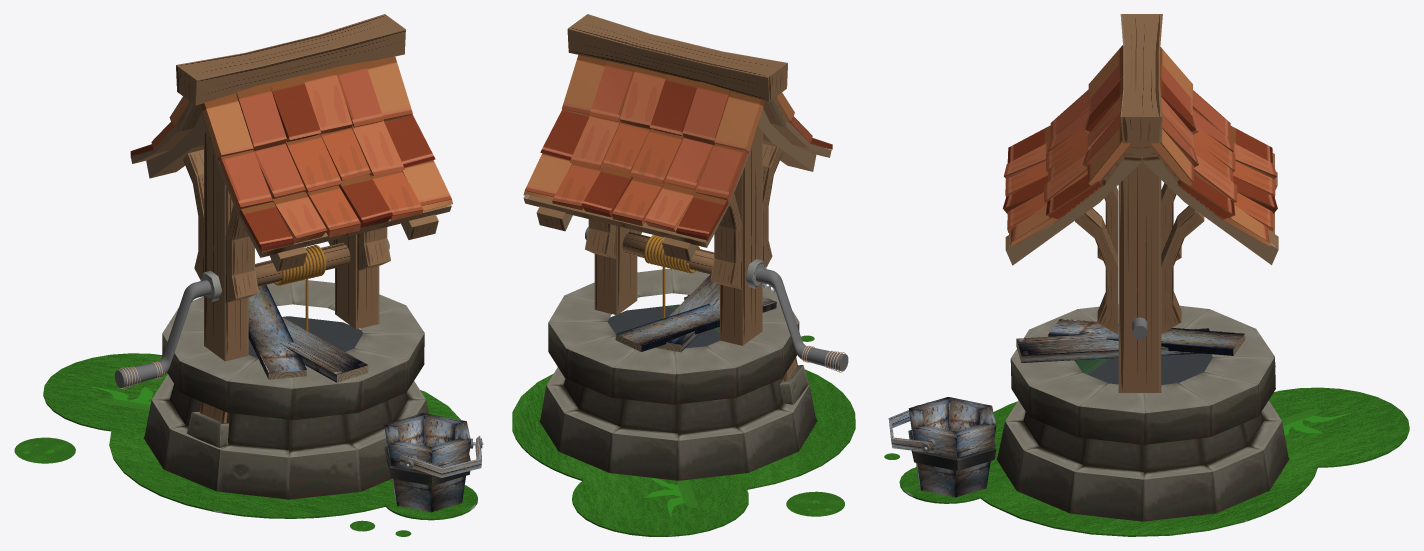
Rendered from well.glb.
The picture shows the model from 3 angles, left to right: view 1: azimuth 30°, elevation 25°; view 2: azimuth 150°, elevation 25°; view 3: azimuth 270°, elevation 25°; orthographic projection. The views are drawn at different scales.
Visible parts, largest first — view 1: Cylinder001, Cylinder012, Circle001, Box019, Torus001, Box002, Cylinder004, Box022, Box035, Box003, Box010 (×3), Box015 (×2) (+24 smaller); view 2: Cylinder001, Cylinder012, Circle001, Box019, Box002, Cylinder004, Box041, Box015 (×2), Box003, Box022, Box010 (×3), Box007 (+22 smaller); view 3: Cylinder001, Cylinder012, Circle001, Box003, Torus001, Box019, Box010 (×2), Box022, Box021, Box009, Box008, Box015 (×2) (+25 smaller).
Boxes of the visible parts, box(x1,y1,x2,y2) form: Cylinder001: box(143, 316, 428, 499); Cylinder012: box(162, 280, 424, 419); Circle001: box(43, 353, 477, 520); Box019: box(176, 14, 405, 105); Torus001: box(384, 413, 470, 512); Box002: box(204, 131, 248, 361); Cylinder004: box(114, 239, 389, 387); Box022: box(248, 285, 306, 379); Box035: box(306, 170, 422, 237); Box003: box(335, 234, 379, 329); Box010 (×3): box(146, 113, 438, 271); Box015 (×2): box(130, 101, 451, 257); Cylinder001: box(539, 304, 817, 480); Cylinder012: box(548, 268, 799, 404); Circle001: box(512, 369, 855, 536); Box019: box(567, 14, 787, 101); Box002: box(720, 126, 762, 345); Cylinder004: box(585, 227, 848, 371); Box041: box(552, 163, 663, 226); Box015 (×2): box(523, 97, 831, 247); Box003: box(594, 226, 637, 315); Box022: box(615, 296, 776, 351); Box010 (×3): box(536, 109, 816, 261); Box007: box(710, 193, 742, 289); Cylinder001: box(996, 353, 1289, 521); Cylinder012: box(1010, 304, 1275, 444); Circle001: box(899, 387, 1409, 536); Box003: box(1118, 157, 1161, 392); Torus001: box(908, 397, 996, 497); Box019: box(1120, 14, 1162, 143); Box010 (×2): box(1005, 143, 1278, 265); Box022: box(1048, 319, 1245, 355); Box021: box(1016, 328, 1209, 362); Box009: box(1075, 208, 1118, 334); Box008: box(1161, 205, 1204, 333); Box015 (×2): box(1009, 143, 1274, 253).
Bounding box in the file's own units: 1.32 × 1.33 × 1.59.
Materials: 19 (12 with a texture image).
